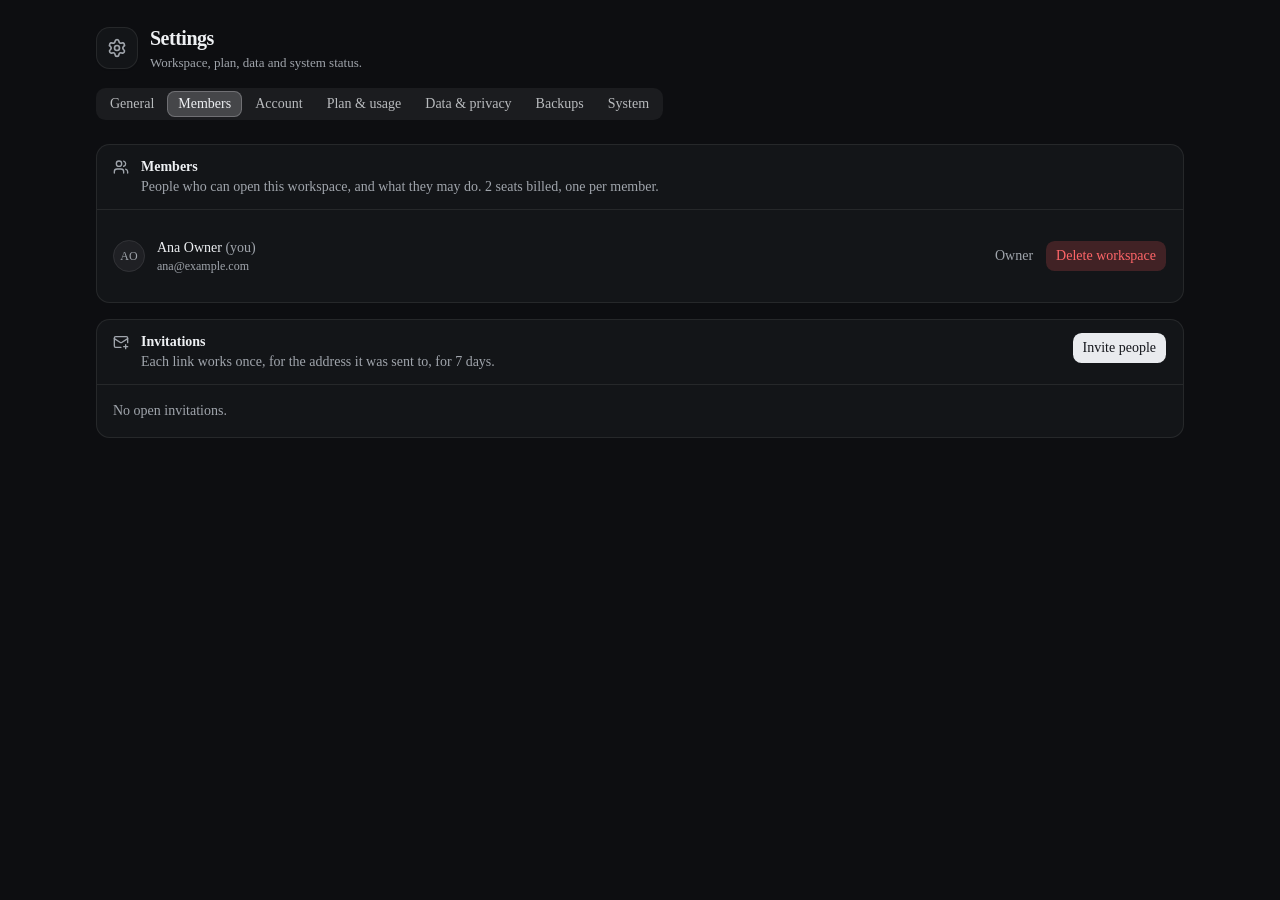
members › per user pricing: the seats billed and what one more person costs while the workspace pays
Check: the text "2 seats billed, one per member" is shown, box [141,179,659,194]
Click the button "Invite people".
click(1119, 348)  # box [1072,332,1167,364]
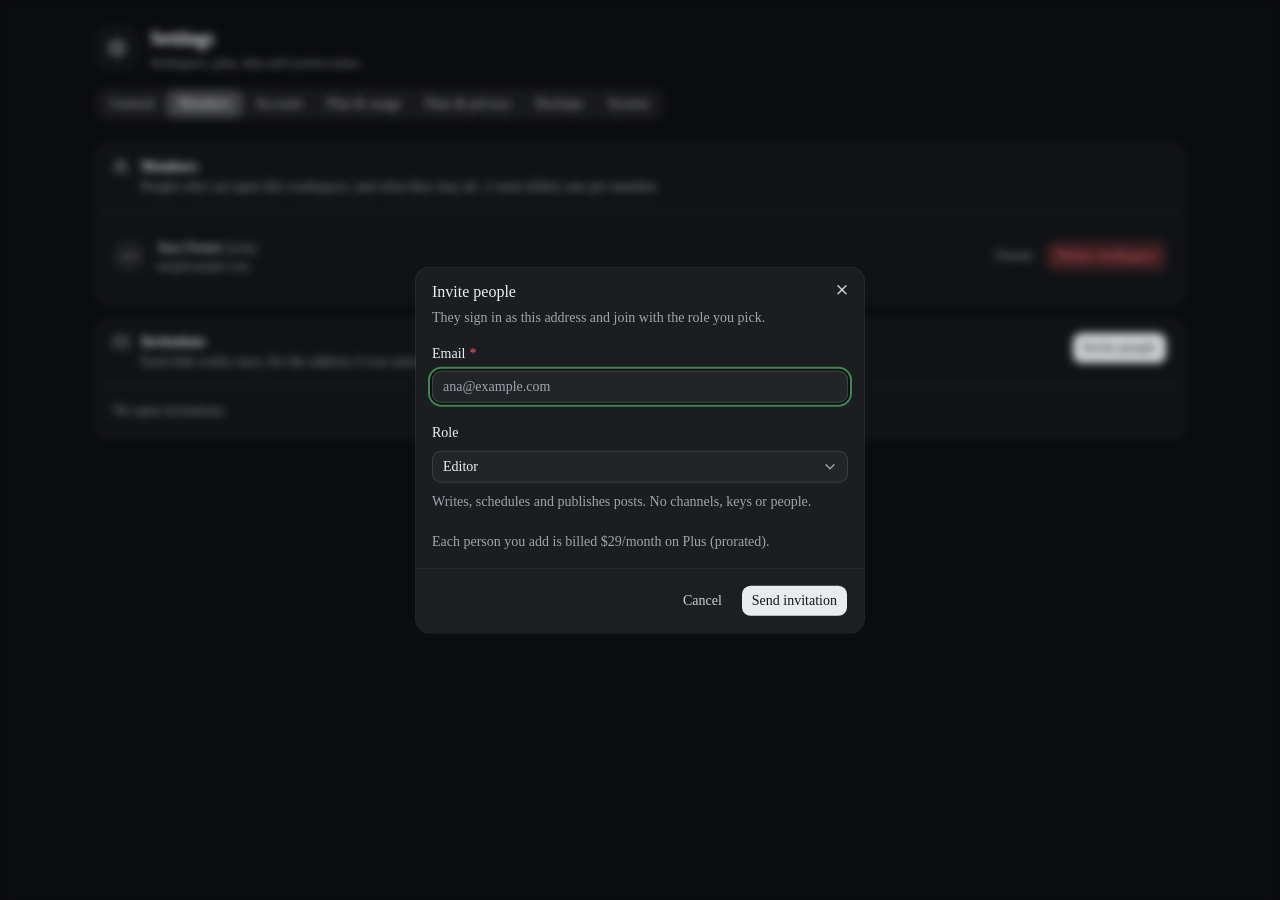
Check: the text with test id "invite-seat-price" reads "Each person you add is billed $29/month on Plus (prorated).", box [432,533,770,548]
